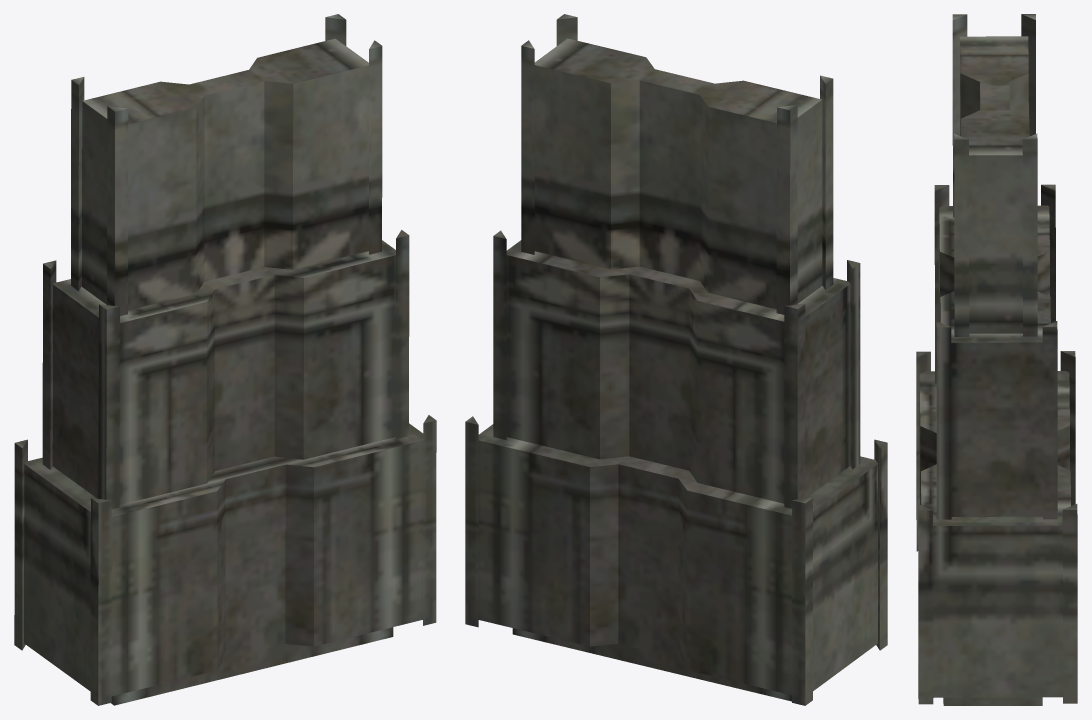
File: bldg2.dae
3 renders of one model, left to right at view 1: azimuth 30°, elevation 25°; view 2: azimuth 150°, elevation 25°; view 3: azimuth 270°, elevation 25°, orthographic. The views are drawn at different scales.
Visible parts, largest first — view 1: bldg2; view 2: bldg2; view 3: bldg2.
Part boxes in pixels (left/top/right/bottom): bldg2: left=14, top=14, right=436, bottom=705; bldg2: left=465, top=14, right=887, bottom=705; bldg2: left=916, top=14, right=1077, bottom=705.
Bounding box in the file's own units: 3.07 × 1.32 × 5.08.
Materials: 1 (1 with a texture image).
